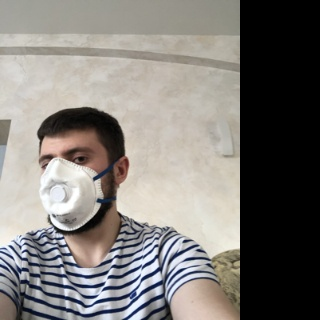with_mask: (39, 146, 111, 235)
